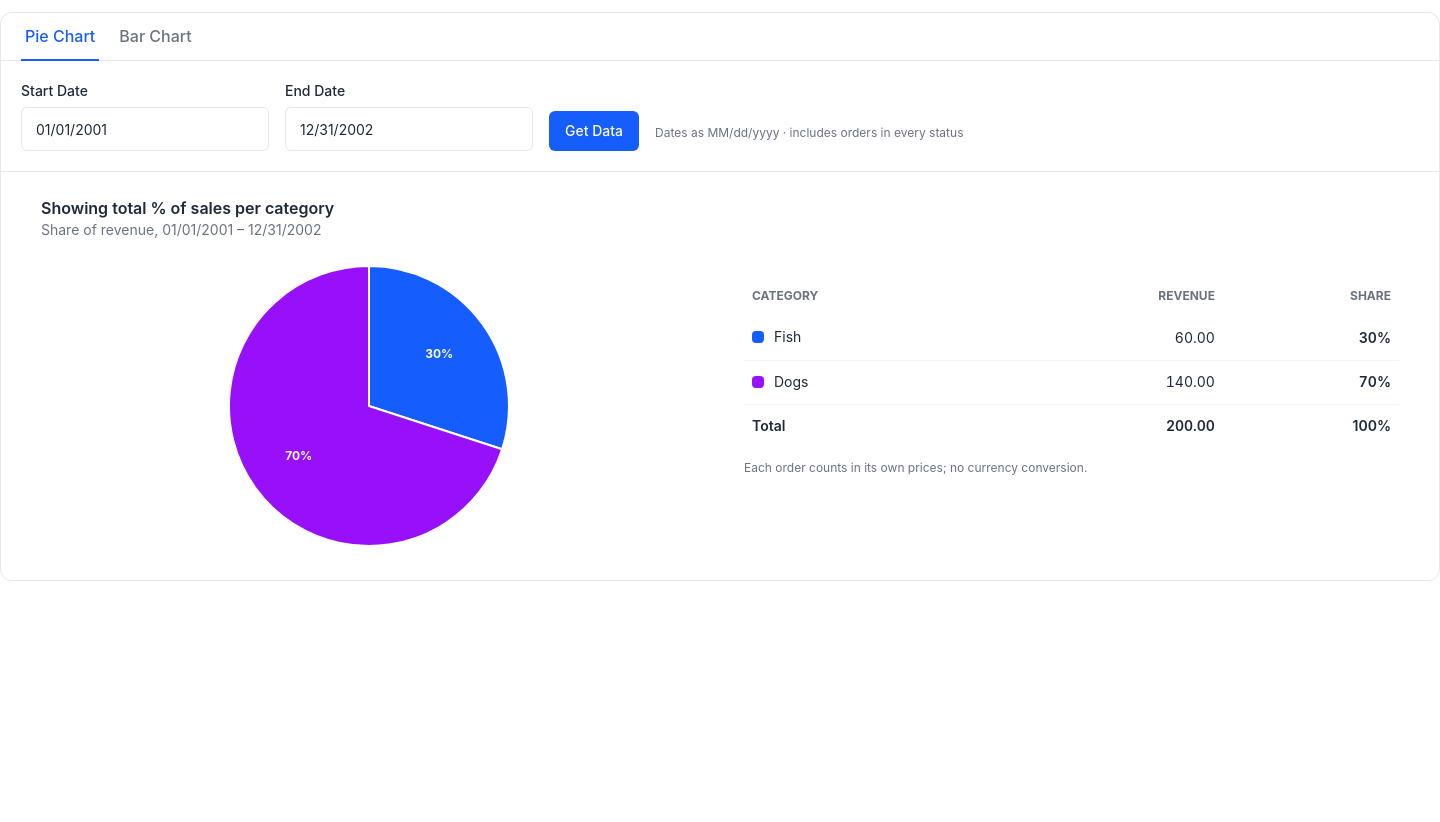
Test: SalesCharts › [SWHR-C-0320] shows the format message and requests nothing for '2001-01-01'
Replace the text in the field labelled "Start Date" with "2001-01-01": (145, 129) [21,107,269,151]
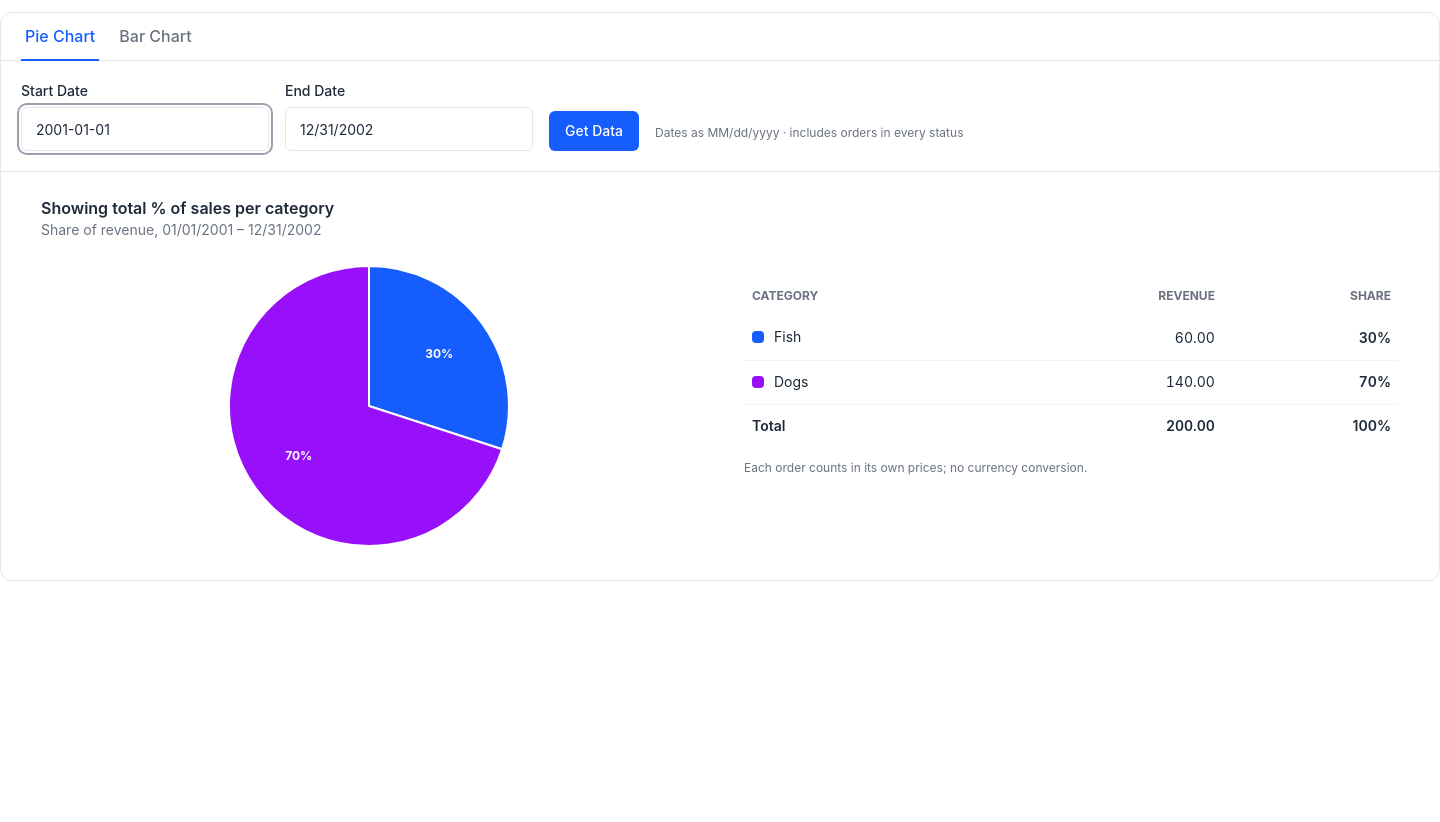
Click the button "Get Data": (594, 131) [549,111,639,151]
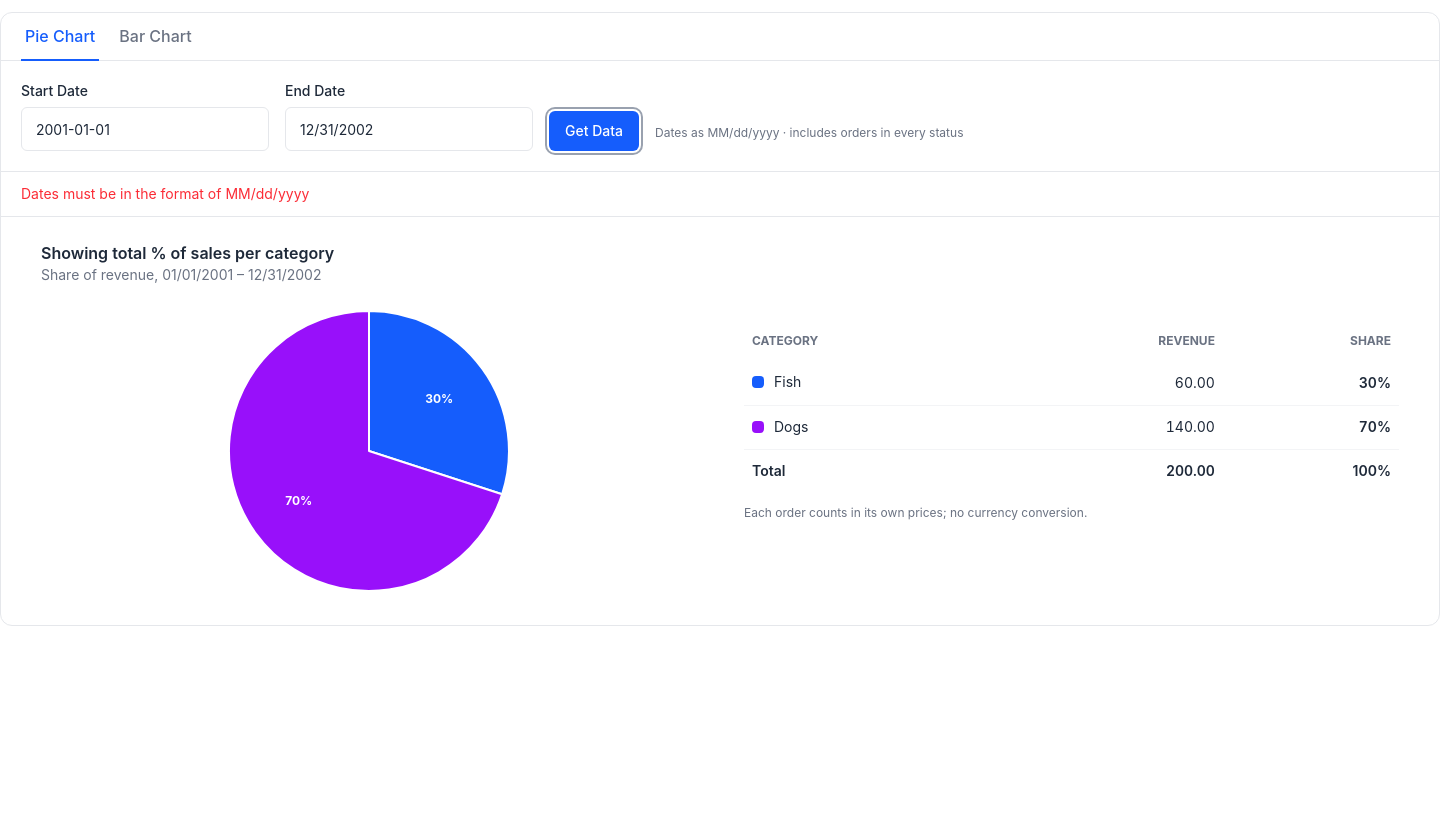
Check: the message reads "Dates must be in the format of MM/dd/yyyy", box [21,185,309,202]
